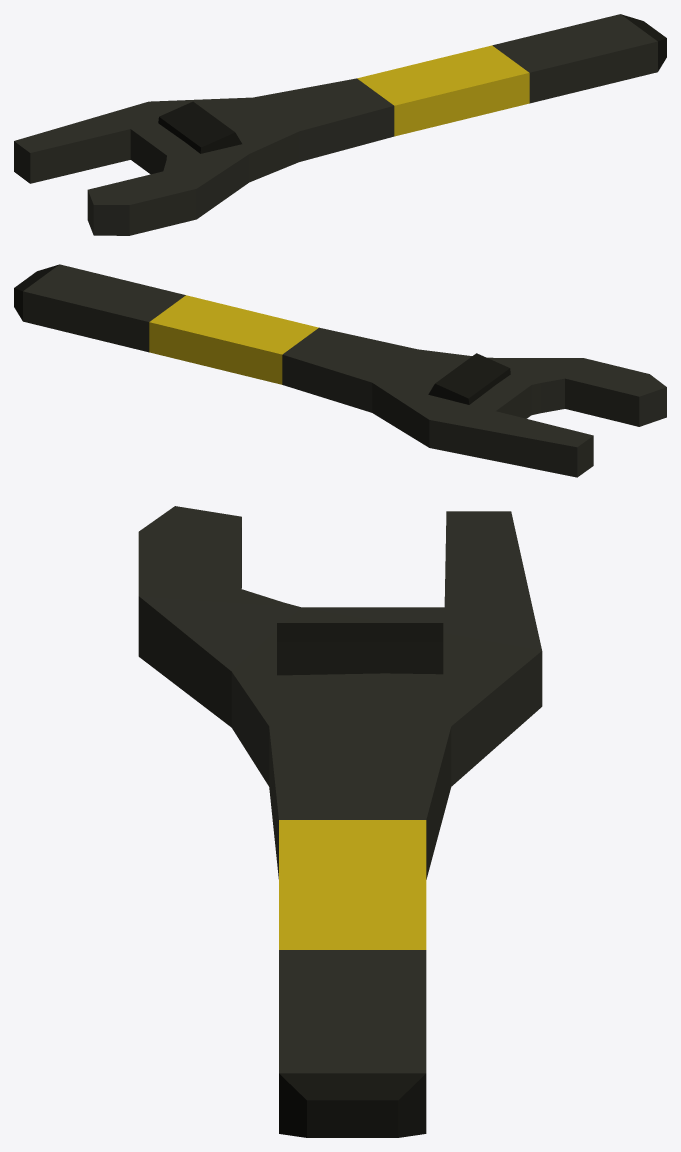
The model's file is wrench.glb.
3 renders of one model, top to bottom at view 1: azimuth 30°, elevation 25°; view 2: azimuth 150°, elevation 25°; view 3: azimuth 270°, elevation 25°, orthographic. The views are drawn at different scales.
Parts seen in each view (by area): view 1: Cylinder; view 2: Cylinder; view 3: Cylinder.
Boxes of the visible parts, x1,y1,x2,y2 form: Cylinder: [14, 14, 666, 235]; Cylinder: [14, 264, 666, 477]; Cylinder: [138, 506, 542, 1137].
Size of the model in its own units: 0.7828 by 0.072 by 0.229.
Materials: 1 (1 with a texture image).
